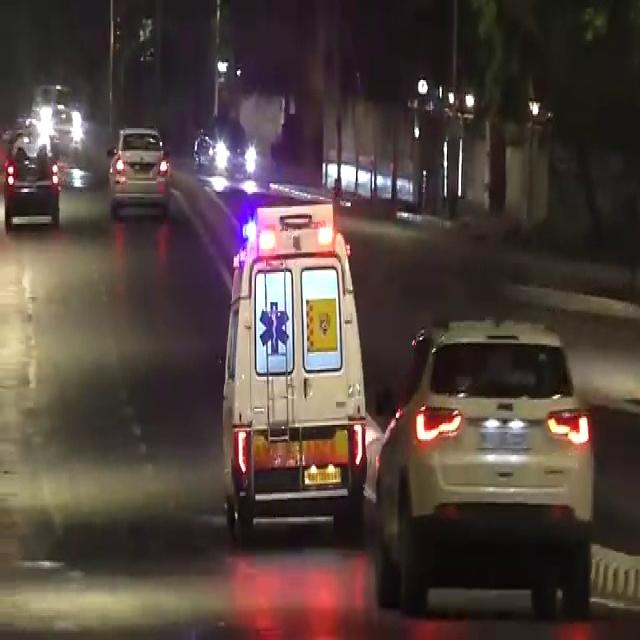ambulance: (220, 182, 379, 505)
